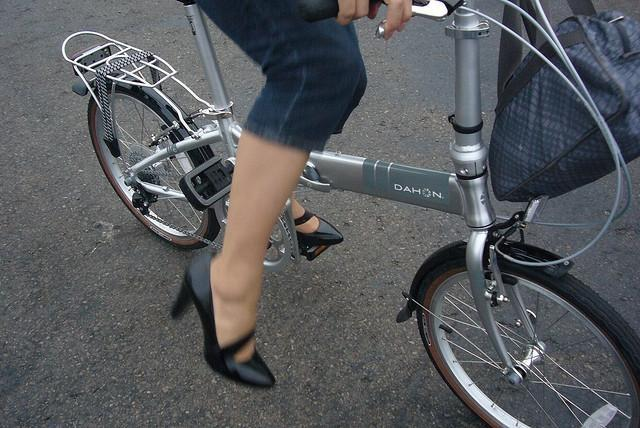bicycle: (58, 3, 640, 428)
